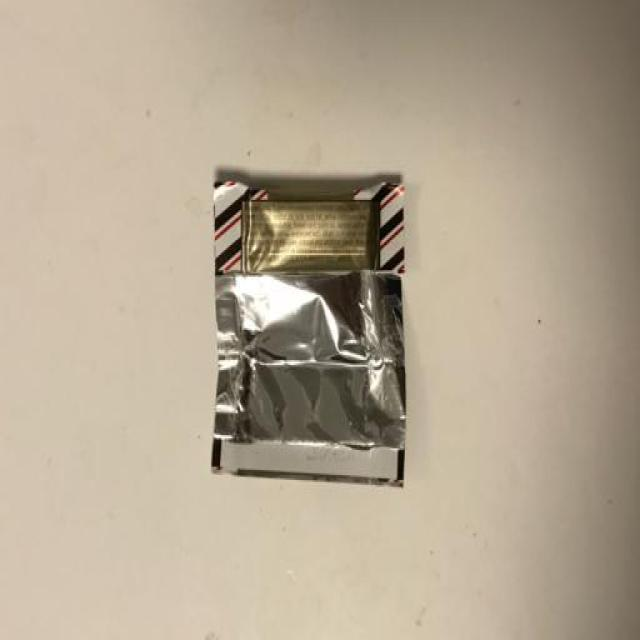inorganic: (210, 170, 409, 487)
